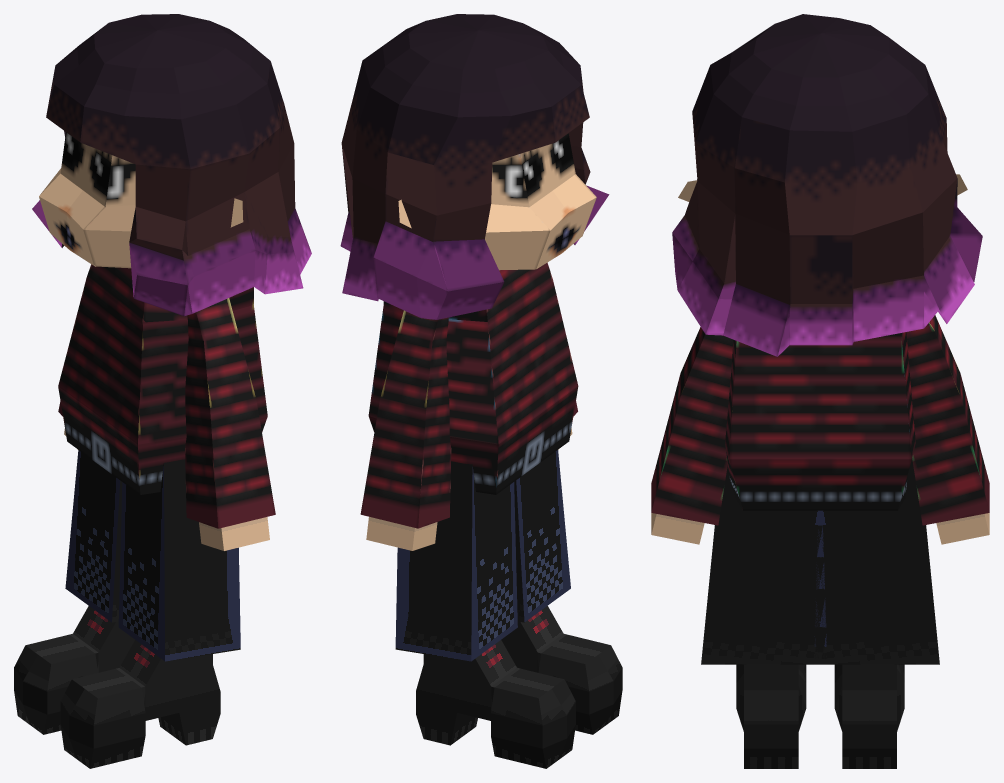
Rendered from penelope.fbx.
3 views of the same model, side by side, from view 1: azimuth 30°, elevation 25°; view 2: azimuth 150°, elevation 25°; view 3: azimuth 270°, elevation 25° (orthographic). The views are drawn at different scales.
Visible parts, largest first — view 1: hair, torso, leg, arm, shoe, head_mesh, shoe_1, leg_1, cuboid; view 2: hair, torso, leg_1, arm_1, shoe_1, head_mesh, shoe, leg, cuboid_1; view 3: hair, torso, leg, leg_1, arm_1, arm, shoe, shoe_1, cuboid, cuboid_1.
Boxes of the visible parts, x1,y1,x2,y2 form: hair: (32, 14, 311, 316); torso: (58, 264, 267, 494); leg: (118, 459, 240, 661); arm: (185, 298, 275, 528); shoe: (60, 640, 220, 768); head_mesh: (39, 132, 135, 268); shoe_1: (14, 606, 134, 734); leg_1: (65, 450, 122, 622); cuboid: (199, 517, 269, 550); hair: (340, 14, 609, 319); torso: (368, 262, 578, 494); leg_1: (395, 461, 517, 661); arm_1: (360, 310, 451, 528); shoe_1: (416, 640, 575, 768); head_mesh: (485, 133, 596, 270); shoe: (501, 606, 622, 734); leg: (514, 450, 570, 622); cuboid_1: (366, 516, 437, 550); hair: (672, 14, 982, 356); torso: (725, 332, 915, 510); leg: (701, 465, 827, 664); leg_1: (813, 458, 939, 664); arm_1: (906, 315, 989, 525); arm: (651, 327, 733, 525); shoe: (736, 664, 806, 768); shoe_1: (834, 664, 904, 768); cuboid: (651, 513, 704, 544); cuboid_1: (936, 513, 989, 544).
Size of the model in its own units: 133 by 356 by 150.
Materials: 10 (10 with a texture image).
